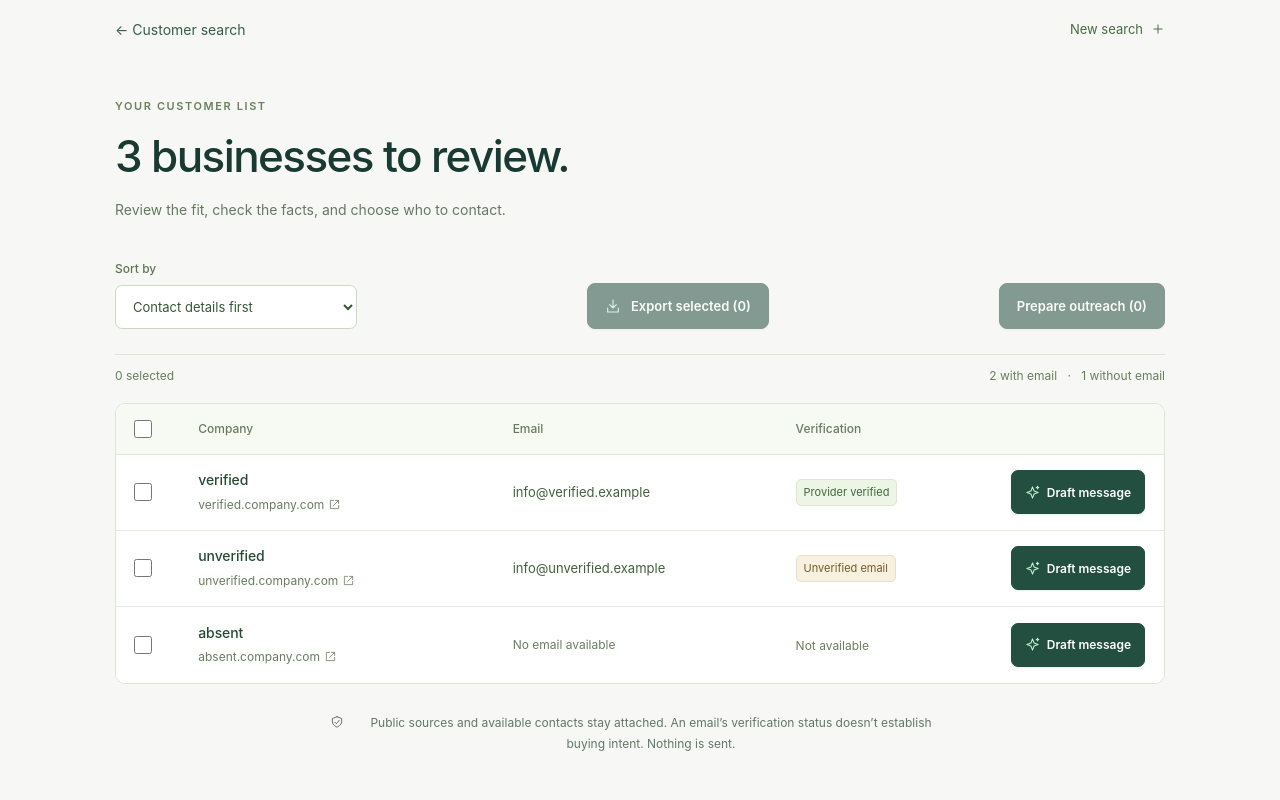
it: dedicated customer results › keeps verification labels and selections while sorting, and restores those choices on refresh
Click the checkbox named "Select verified". click: [143, 492]
box: [134,483,152,501]
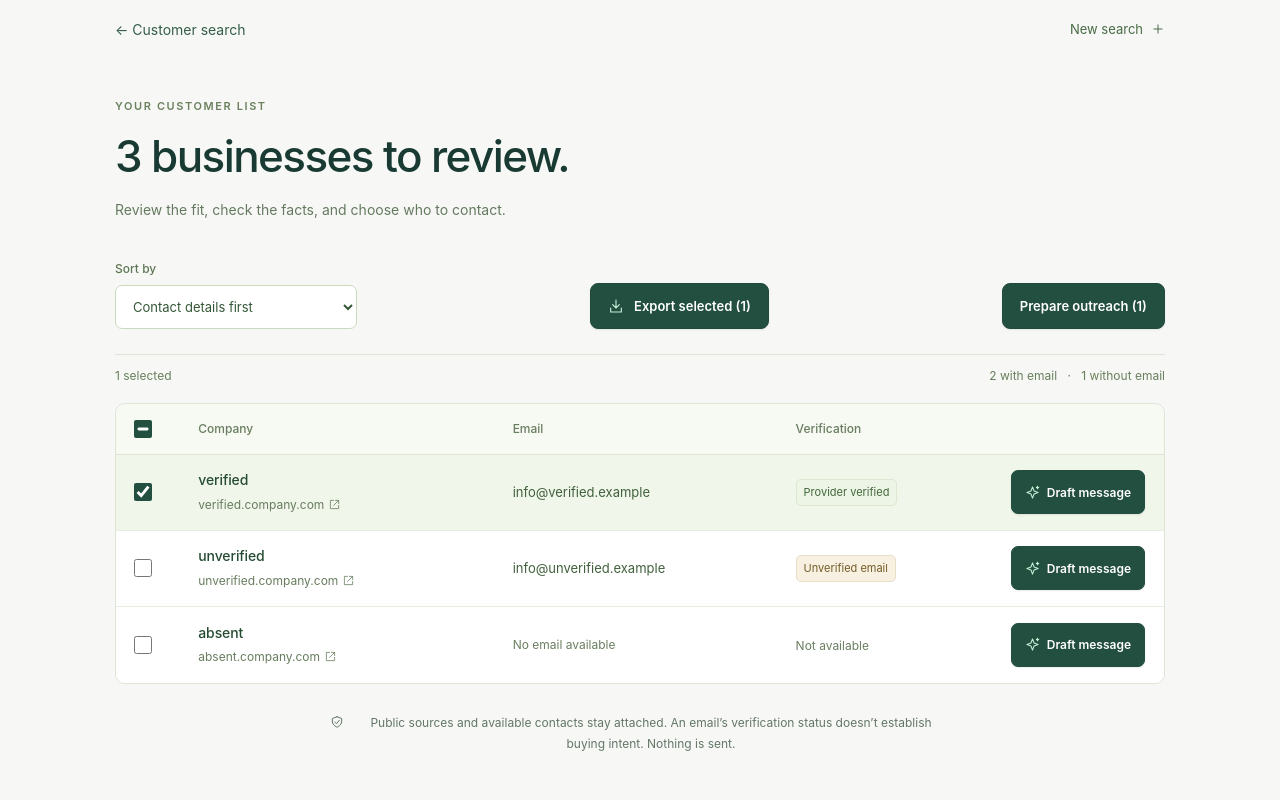
Select "Website match: highest first" in the dropdown with id "customer-sort". click: [236, 307]
box: [115,285,357,329]
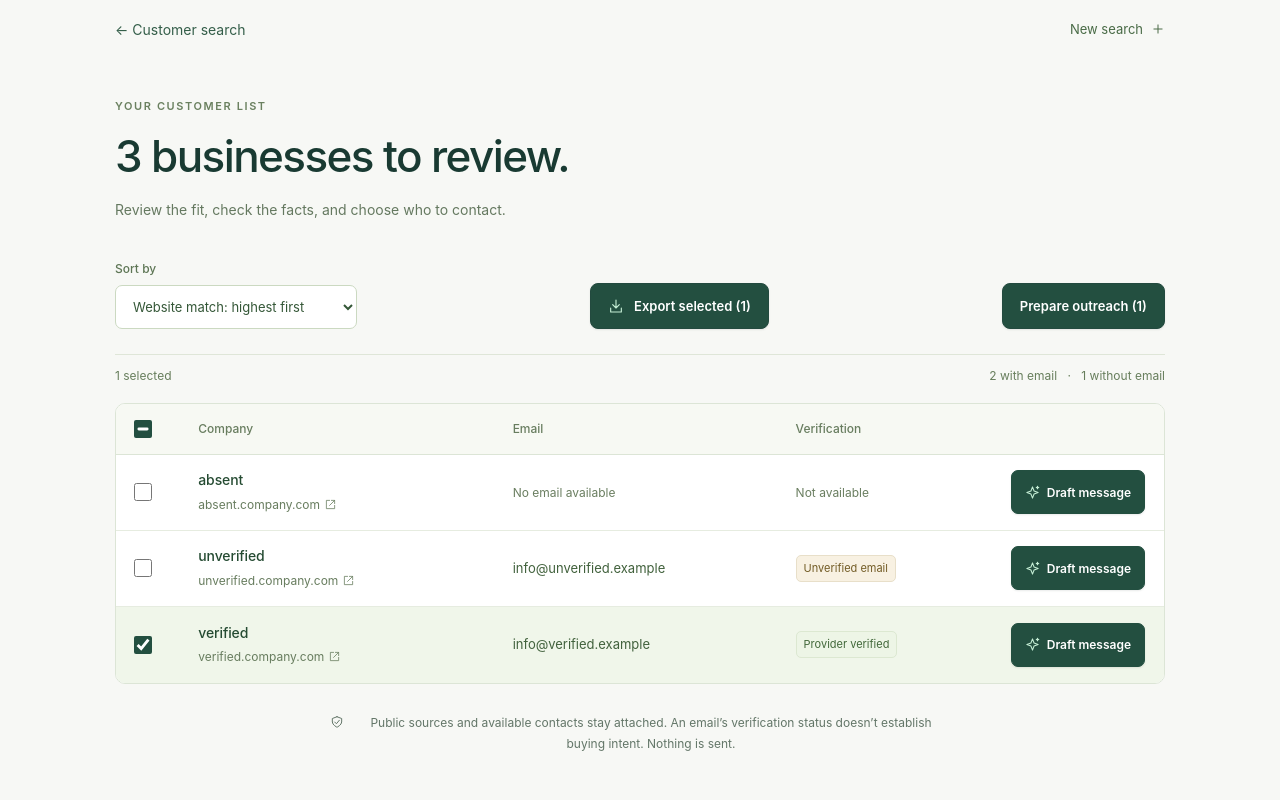
Result: the text "Export selected (1)" is shown at [590,283,769,329]
Result: the checkbox named "Select verified" is checked at [134,636,152,654]
